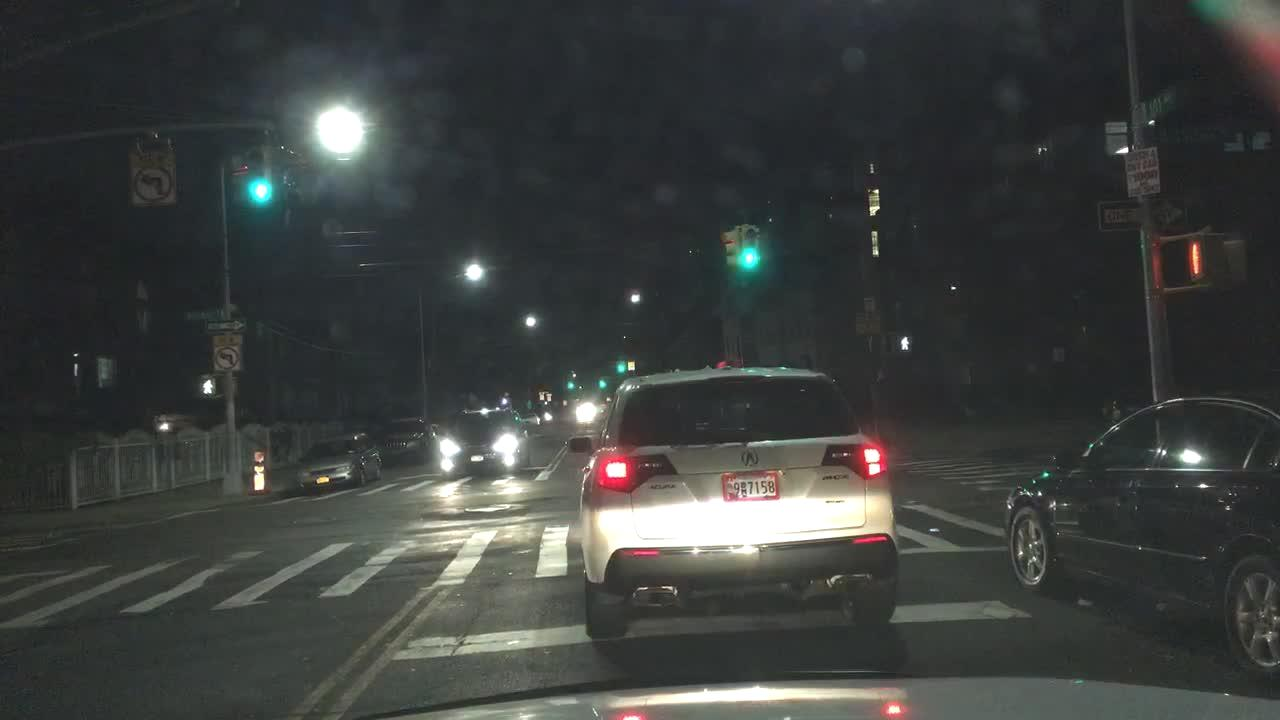acura: (737, 444, 763, 472)
